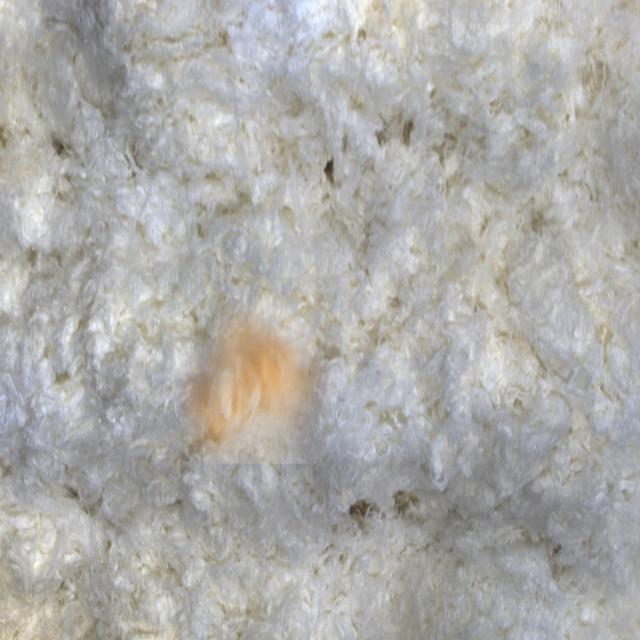dust: (178, 288, 337, 464)
